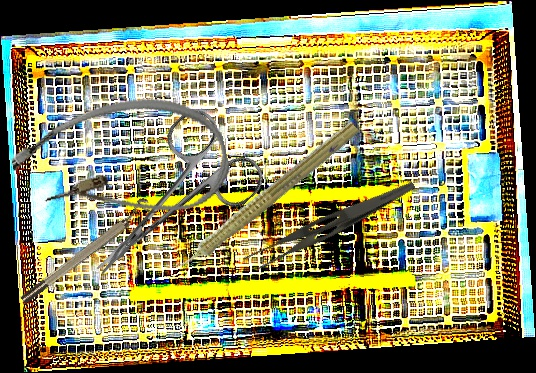Cannula: (4, 80, 237, 247)
Dressing Forceps: (241, 163, 417, 281)
Fixation Ring: (14, 195, 157, 307)
Handpiece: (160, 113, 363, 285)
Iris Scissors: (59, 100, 272, 309)
